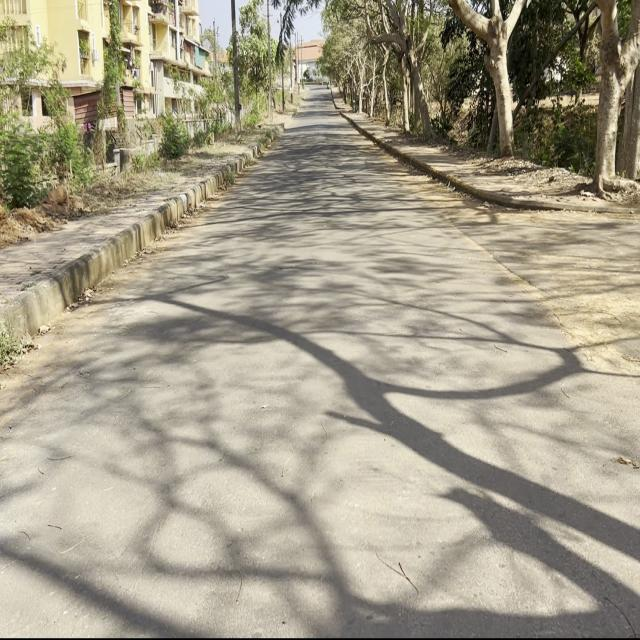Road: (5, 88, 636, 632)
